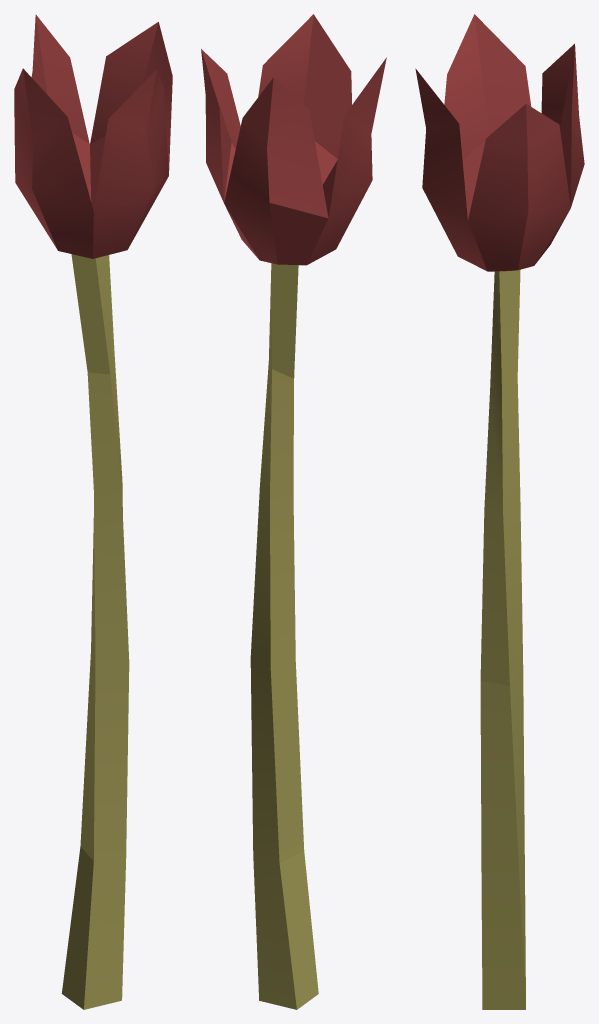
The model's file is FlowerA.fbx.
3 views of the same model, side by side, from view 1: azimuth 30°, elevation 25°; view 2: azimuth 150°, elevation 25°; view 3: azimuth 270°, elevation 25° (orthographic).
Visible parts, largest first — view 1: Flower; view 2: Flower; view 3: Flower.
Part boxes in pixels (bbox=[...]): Flower: bbox=[14, 14, 172, 1009]; Flower: bbox=[201, 14, 386, 1009]; Flower: bbox=[415, 14, 584, 1009].
Bounding box in the file's own units: 13.36 × 75.86 × 12.28.
